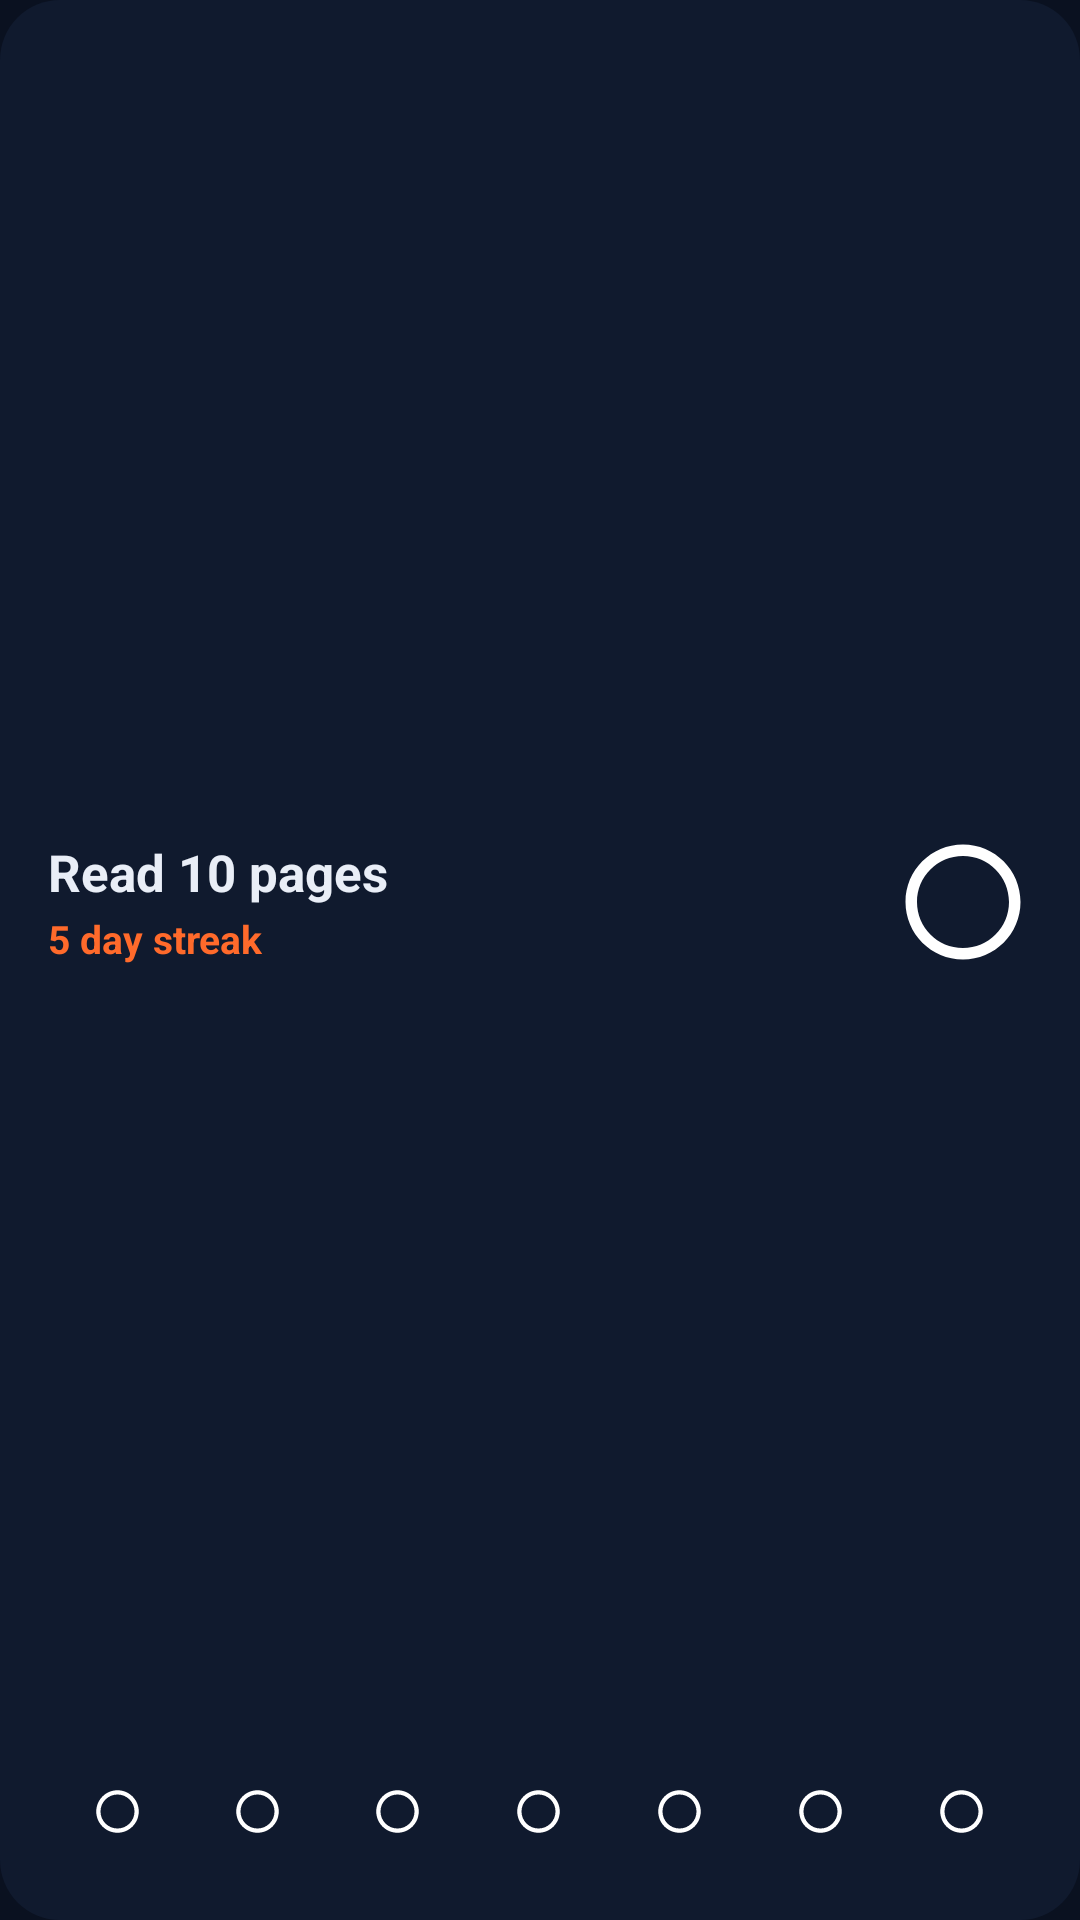

Locate icon controls on the screen. Image size 1080×1920, boxes as (x1,y1,x2,y2).
Tick today: (905,844,1021,960)
